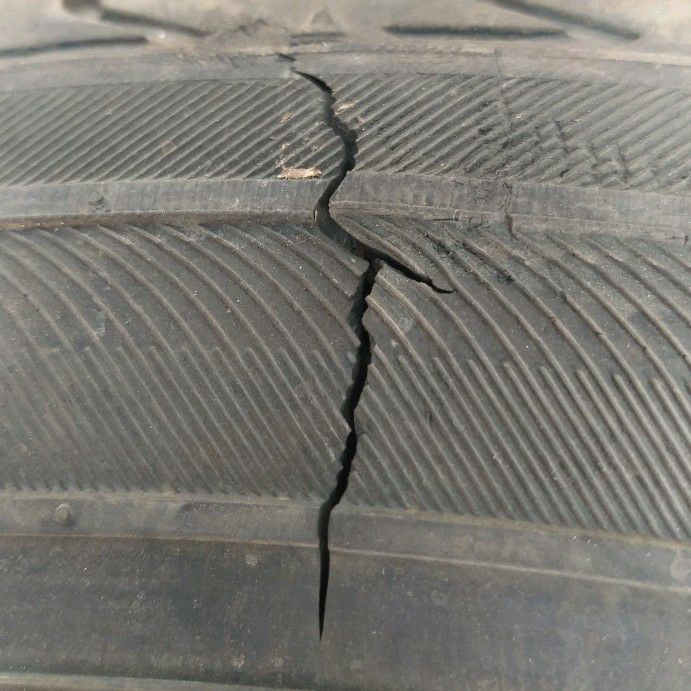cut: (293, 69, 448, 642)
